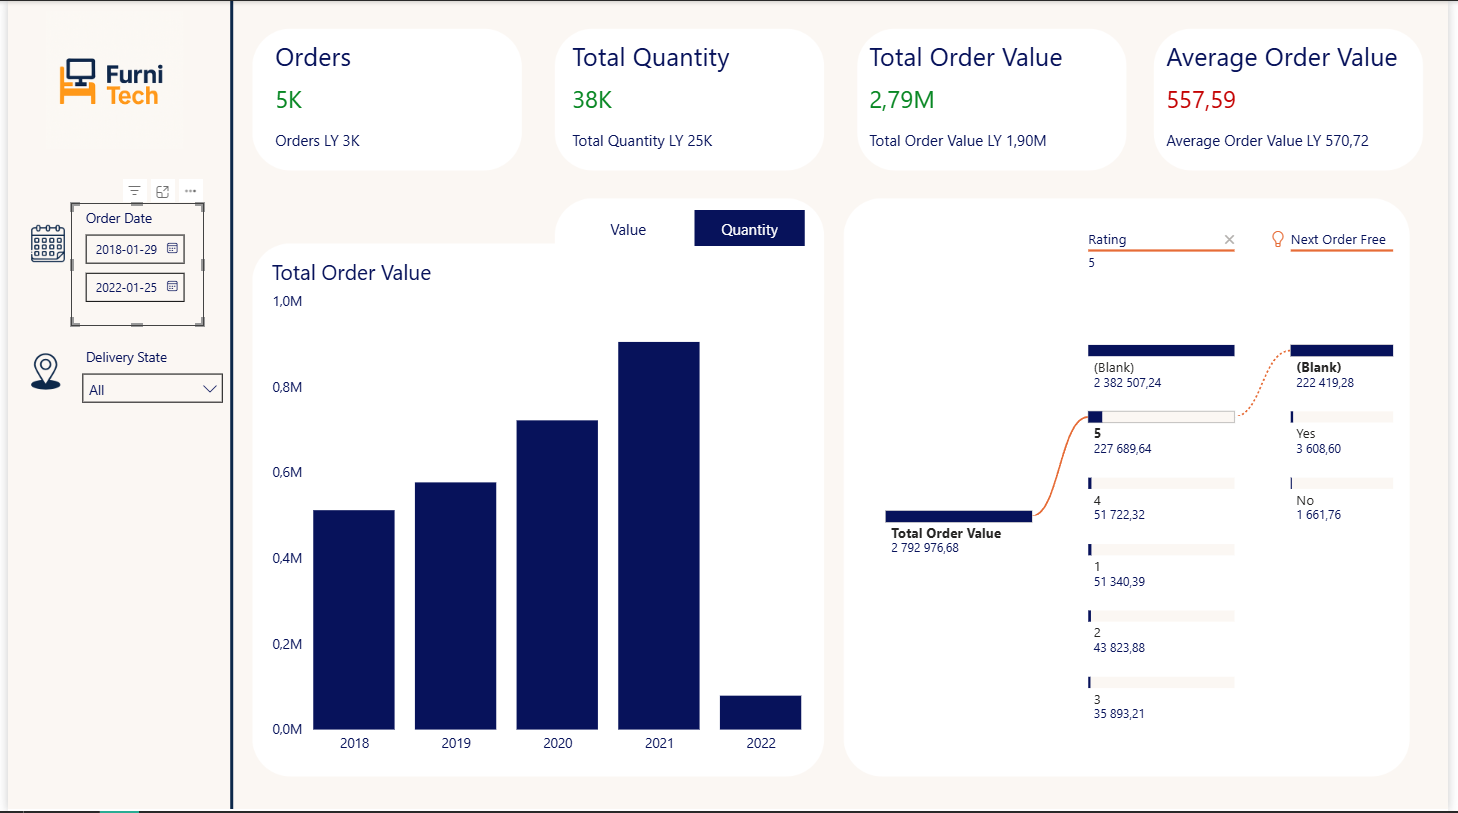

The page's visual inventory and layout, read from the dashboard file:
{"tool":"powerbi","page":{"name":"Page 1","canvas":[1280,720],"ordinal":0},"visuals":[{"type":"slicer","fields":{"Values":["orders.delivery_state"]},"box":[55.7,303.4,145.4,97.8],"z":0},{"type":"slicer","fields":{"Values":["orders.order_date"]},"box":[55.7,179.5,118.5,109.5],"z":1000},{"type":"cardVisual","fields":{"Data":["calendar.Orders","calendar.Total Quantity","calendar.Total Order Value","calendar.Average Order Value"]},"box":[220.8,9,1059.2,149],"z":2000},{"type":"decompositionTreeVisual","fields":{"Analyze":["calendar.Total Order Value"],"ExplainBy":["order_ratings.rating","order_returns.next_order_free"]},"box":[750.1,186,486,522.9],"z":3000},{"type":"clusteredColumnChart","title":"Total Order Value","fields":{"Category":["calendar.year","calendar.month_name"],"Y":["calendar.Total Order Value"]},"box":[229,227.2,480.8,450.1],"z":4000},{"type":"bookmarkNavigator","box":[501.8,186,207.9,32.5],"z":6001}]}

Visuals, with their boxes on the page's 1280x720 design canvas (x1, y1, x2, y2). These are canvas units, not pixel positions in the 1458x813 screenshot, which may show the page scaled, cropped or inside an application window:
slicer - orders.delivery_state: [56, 303, 201, 401]
slicer - orders.order_date: [56, 180, 174, 289]
cardVisual - calendar.Orders x calendar.Total Quantity: [221, 9, 1280, 158]
decompositionTreeVisual - calendar.Total Order Value x order_ratings.rating: [750, 186, 1236, 709]
"Total Order Value" clusteredColumnChart: [229, 227, 710, 677]
bookmarkNavigator: [502, 186, 710, 218]
